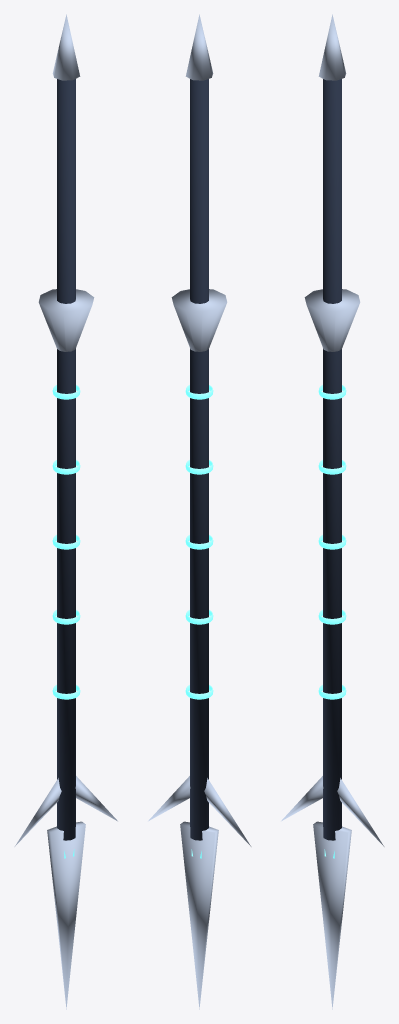
The model's file is weapon_lanceiro_ia.glb.
3 views of the same model, side by side, from view 1: azimuth 30°, elevation 25°; view 2: azimuth 150°, elevation 25°; view 3: azimuth 330°, elevation 25° (orthographic).
Visible parts, largest first — view 1: Haste, Ponta, Guarda, Calcanhar, Aleta, Aleta.001; view 2: Haste, Ponta, Guarda, Calcanhar, Aleta, Aleta.001; view 3: Haste, Ponta, Guarda, Calcanhar, Aleta.001, Aleta.
Boxes of the visible parts, x1,y1,x2,y2 form: Haste: [57, 79, 75, 840]; Ponta: [47, 821, 85, 1009]; Guarda: [38, 289, 94, 351]; Calcanhar: [52, 14, 80, 80]; Aleta: [14, 778, 61, 846]; Aleta.001: [75, 776, 117, 821]; Haste: [190, 79, 208, 840]; Ponta: [180, 821, 218, 1009]; Guarda: [171, 289, 227, 351]; Calcanhar: [185, 14, 213, 80]; Aleta: [204, 778, 251, 846]; Aleta.001: [148, 776, 190, 821]; Haste: [323, 79, 341, 840]; Ponta: [313, 821, 351, 1009]; Guarda: [304, 289, 360, 351]; Calcanhar: [318, 14, 346, 80]; Aleta.001: [337, 778, 384, 846]; Aleta: [281, 776, 323, 821].
Size of the model in its own units: 0.4677 by 4.25 by 0.22.
